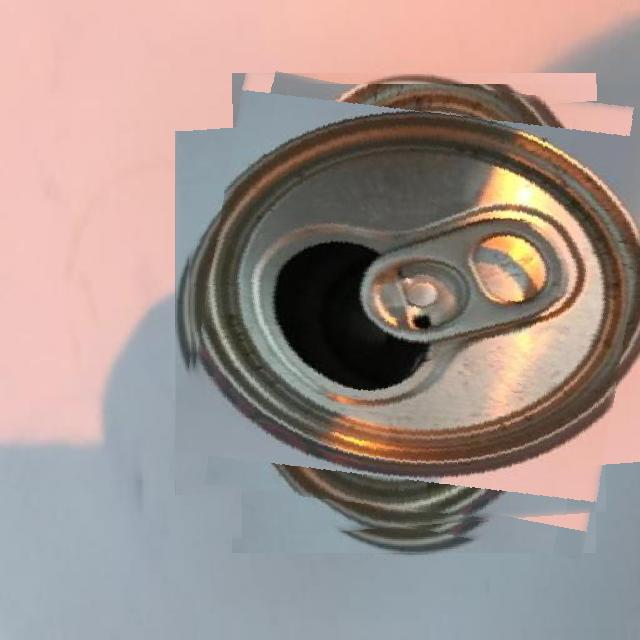recyclable: (185, 84, 640, 542)
